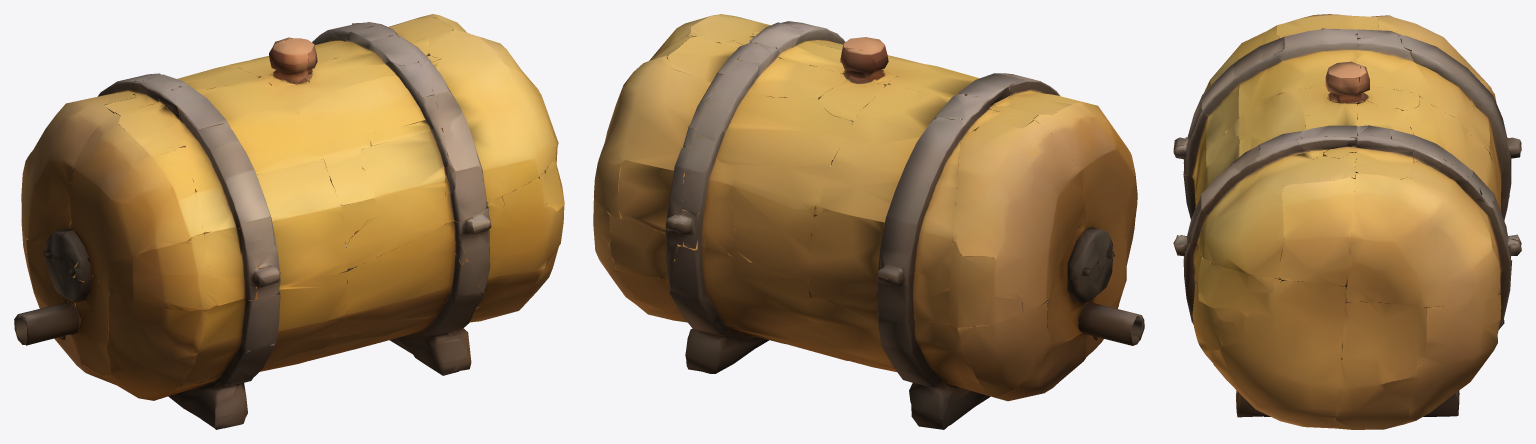
File: CO_Tank.fbx
3 views of the same model, side by side, from view 1: azimuth 30°, elevation 25°; view 2: azimuth 150°, elevation 25°; view 3: azimuth 270°, elevation 25° (orthographic). The views are drawn at different scales.
Visible parts, largest first — view 1: CO_Tank; view 2: CO_Tank; view 3: CO_Tank.
Boxes of the visible parts, left/top/right/bottom form: CO_Tank: left=14, top=14, right=564, bottom=429; CO_Tank: left=593, top=14, right=1144, bottom=429; CO_Tank: left=1173, top=14, right=1521, bottom=429.
Size of the model in its own units: 1 by 0.6057 by 0.6449.
Materials: 1 (1 with a texture image).
